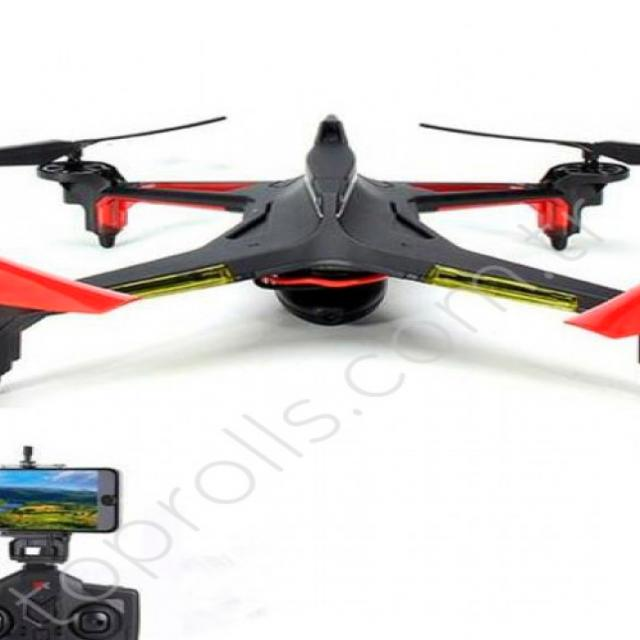drone: (0, 100, 640, 452)
